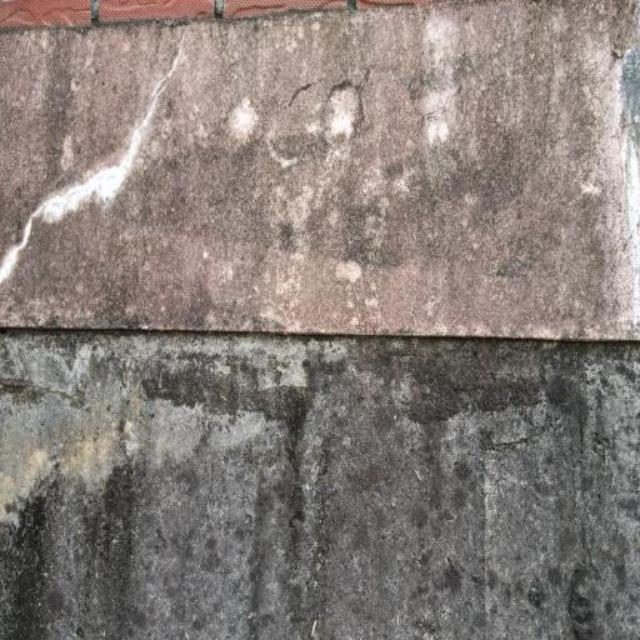D01: (0, 61, 175, 281)
